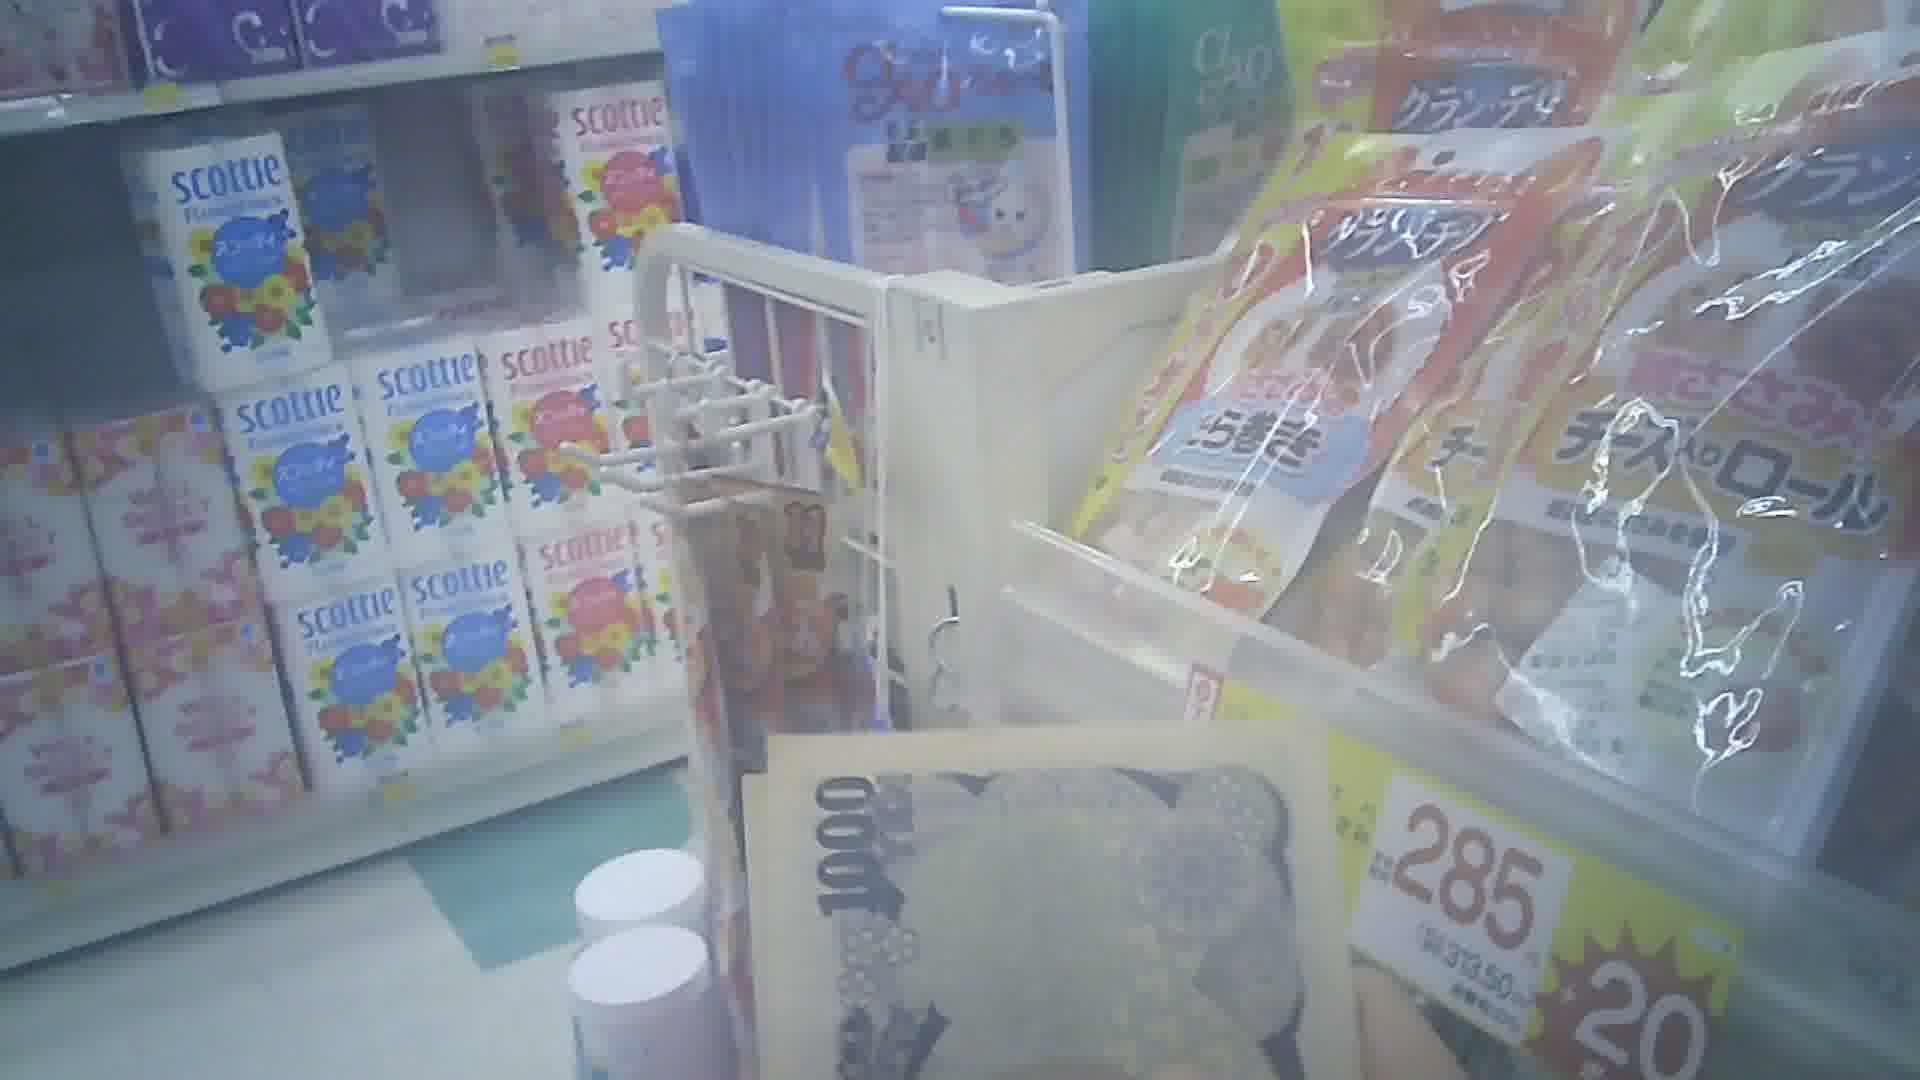1,000 Yen: (746, 723, 1370, 1072)
